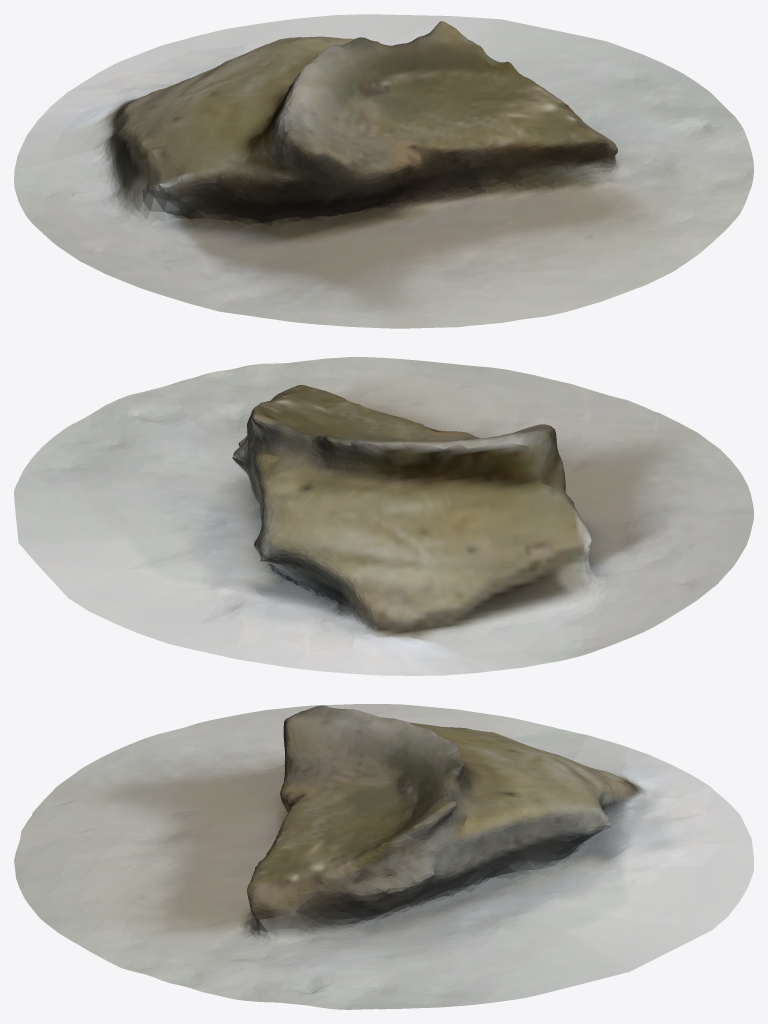
3 views of the same model, one above another, from view 1: azimuth 30°, elevation 25°; view 2: azimuth 150°, elevation 25°; view 3: azimuth 270°, elevation 25° (orthographic).
Visible parts, largest first — view 1: mesh; view 2: mesh; view 3: mesh.
Part boxes in pixels (<box>): mesh: <box>14,14,753,328</box>; mesh: <box>14,357,753,675</box>; mesh: <box>14,704,753,1009</box>.
Bounding box in the file's own units: 0.1167 × 0.0196 × 0.117.
Materials: 1 (1 with a texture image).
